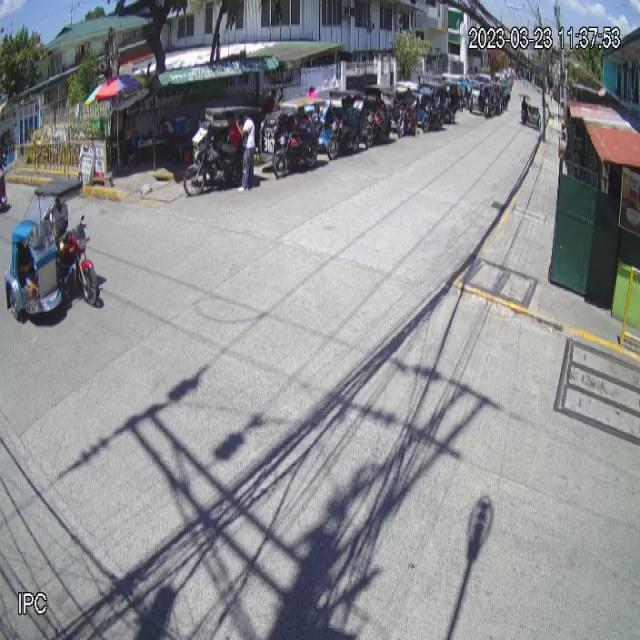Tricycle: (7, 178, 99, 326)
